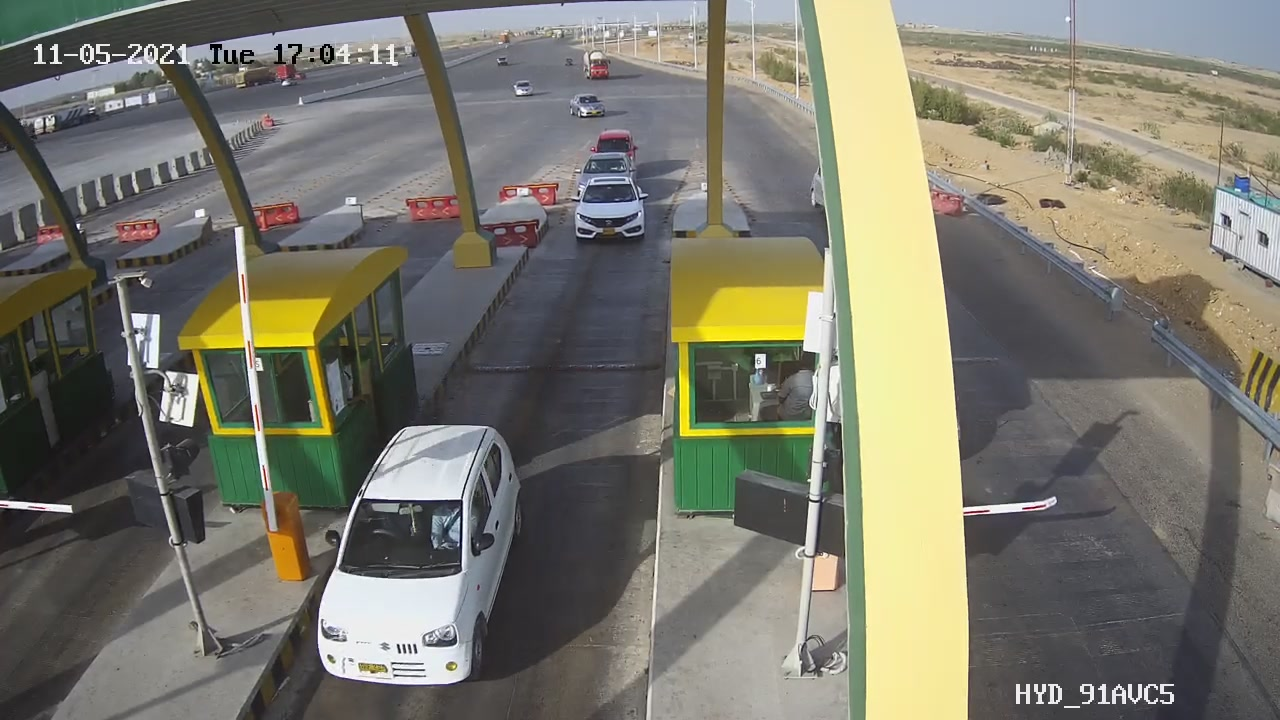F1: (552, 164, 666, 253)
